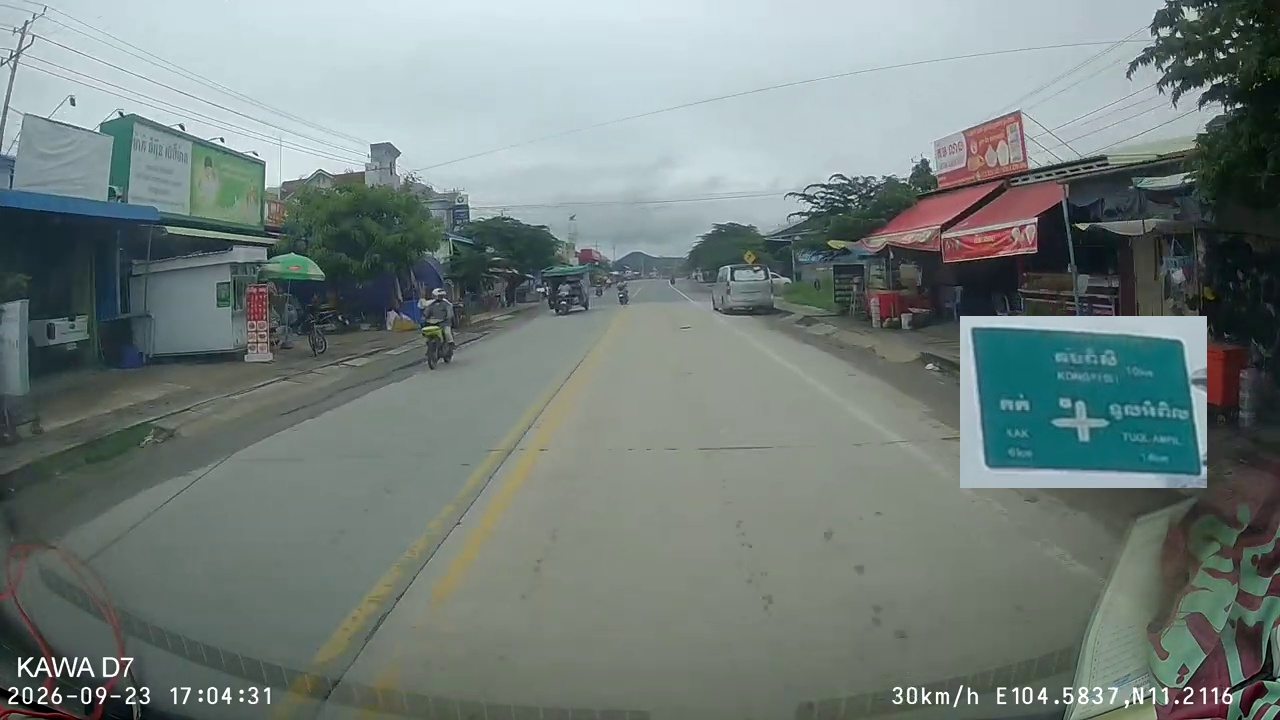direction_sign: (960, 316, 1207, 488)
